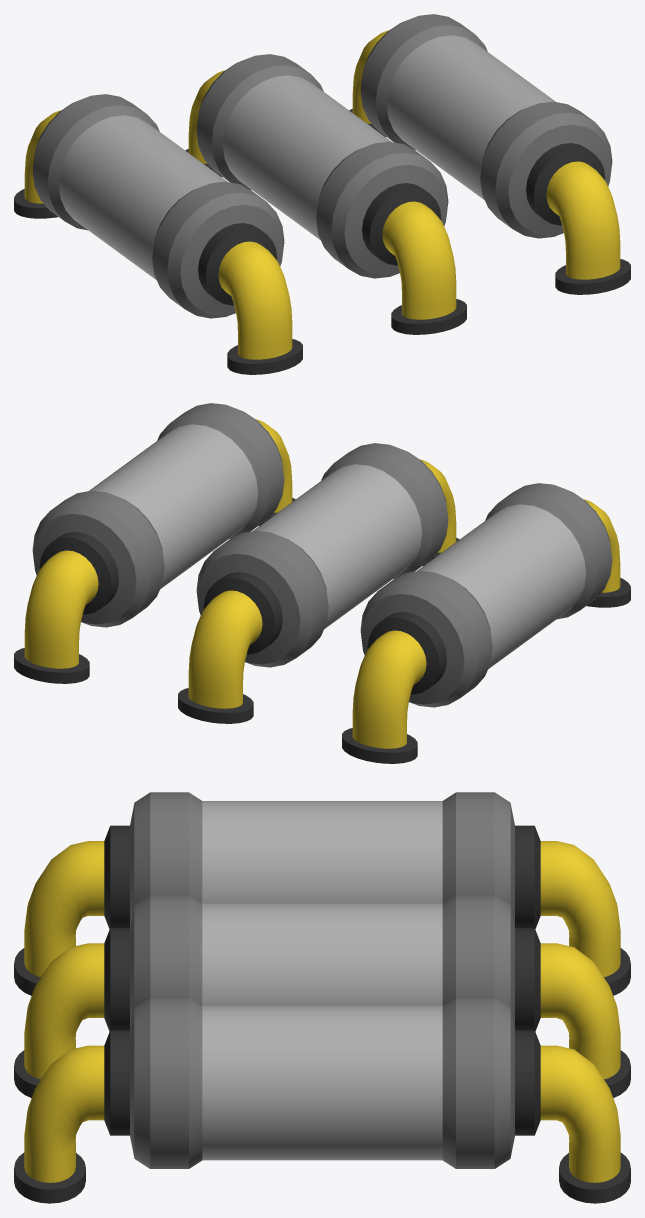
The model's file is batteryPack.glb.
3 views of the same model, one above another, from view 1: azimuth 30°, elevation 25°; view 2: azimuth 150°, elevation 25°; view 3: azimuth 270°, elevation 25° (orthographic). The views are drawn at different scales.
Parts seen in each view (by area): view 1: Battery Pack; view 2: Battery Pack; view 3: Battery Pack.
Part boxes in pixels (x1,y1,x2,y2): Battery Pack: [14, 14, 630, 374]; Battery Pack: [14, 403, 630, 763]; Battery Pack: [14, 792, 630, 1203].
Size of the model in its own units: 0.9451 by 0.2809 by 0.8878.
